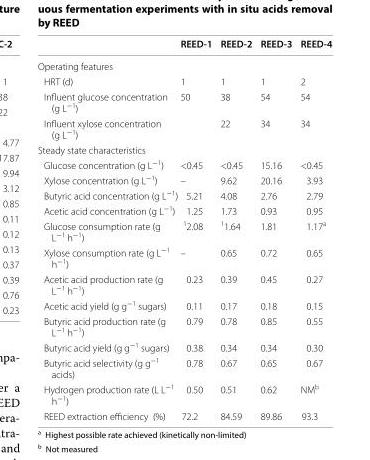table: (36, 36, 331, 421)
table column: (36, 36, 178, 421), (215, 36, 255, 421), (255, 36, 295, 421), (178, 36, 215, 421), (295, 36, 331, 421)
table column header: (36, 36, 331, 54)
table projected row header: (36, 54, 331, 73), (36, 141, 331, 156)
table row: (36, 380, 331, 408), (36, 88, 331, 115), (36, 217, 331, 244), (36, 244, 331, 271), (36, 115, 331, 141), (36, 271, 331, 297), (36, 313, 331, 339), (36, 354, 331, 380), (36, 54, 331, 73), (36, 36, 331, 54), (36, 171, 331, 187), (36, 297, 331, 313), (36, 73, 331, 88), (36, 141, 331, 156), (36, 156, 331, 171), (36, 187, 331, 202), (36, 202, 331, 217), (36, 339, 331, 354), (36, 408, 331, 421)
